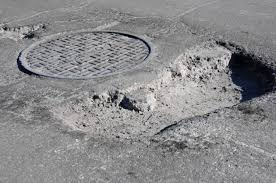pothole: (50, 37, 276, 156)
